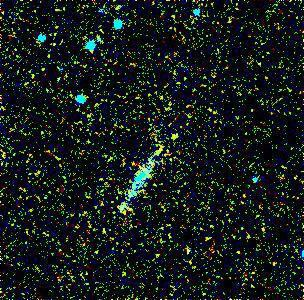star: (156, 122, 186, 152)
